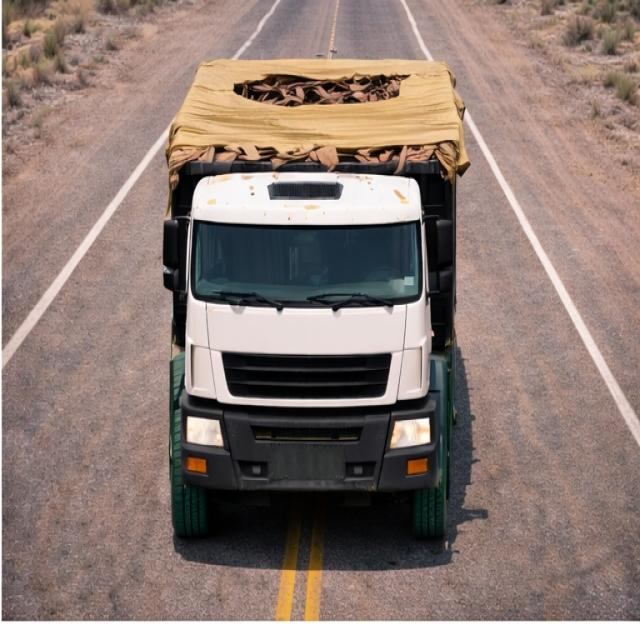trailer: (163, 56, 466, 178)
truck: (155, 39, 477, 540)
